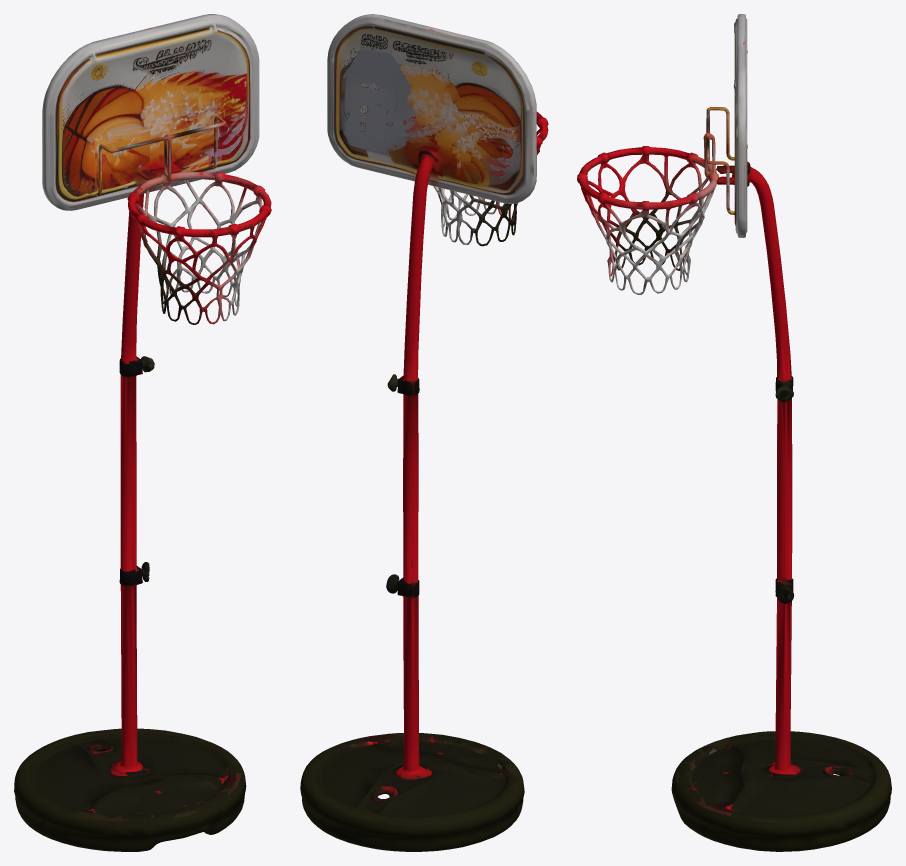
Rendered from hoop.obj.
3 renders of one model, left to right at view 1: azimuth 30°, elevation 25°; view 2: azimuth 150°, elevation 25°; view 3: azimuth 270°, elevation 25°, orthographic. The views are drawn at different scales.
Visible parts, largest first — view 1: material; view 2: material; view 3: material.
Part boxes in pixels (x1,y1,x2,y2): material: [14, 14, 271, 851]; material: [300, 14, 548, 851]; material: [577, 14, 891, 851].
Bounding box in the file's own units: 0.3199 × 1.13 × 0.4228.
1 material, 1 textured.
